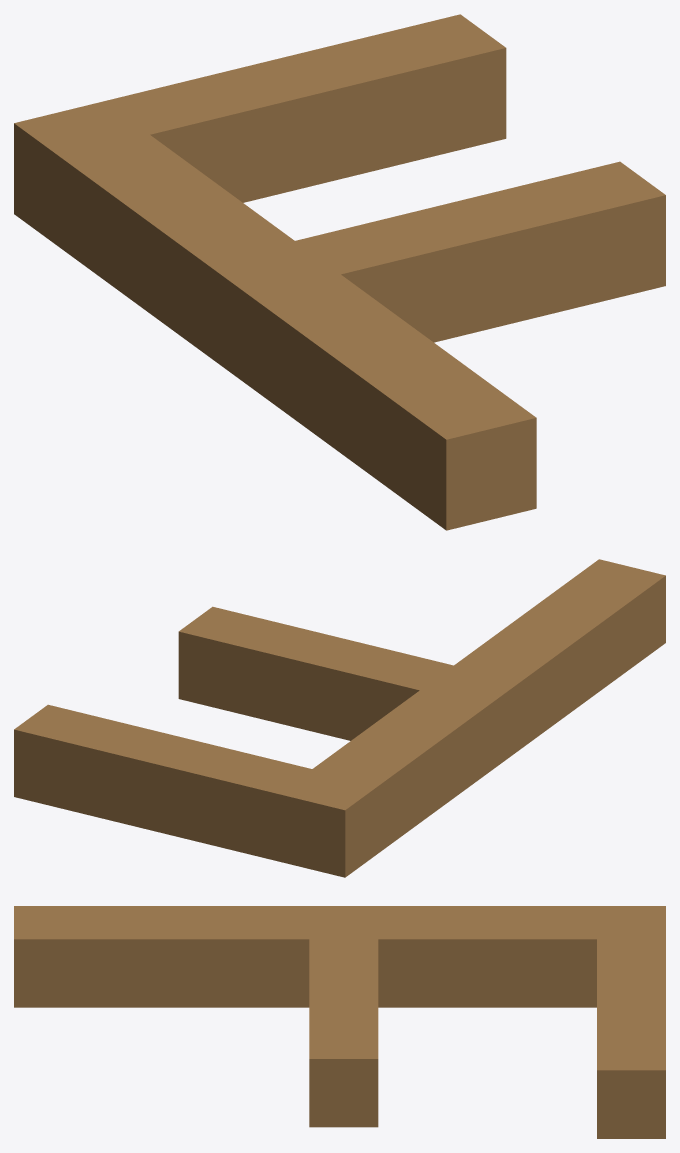
3 views of the same model, one above another, from view 1: azimuth 30°, elevation 25°; view 2: azimuth 150°, elevation 25°; view 3: azimuth 270°, elevation 25° (orthographic). The views are drawn at different scales.
Parts seen in each view (by area): view 1: F; view 2: F; view 3: F.
Boxes of the visible parts, <box> form: F: <box>14,14,665,530</box>; F: <box>14,559,665,877</box>; F: <box>14,906,665,1138</box>.
Size of the model in its own units: 0.129 by 0.0251 by 0.2165.
